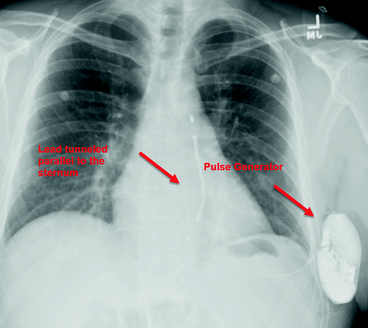telestration: (35, 142, 106, 179), (138, 149, 179, 183), (271, 185, 312, 215), (201, 160, 282, 172)
